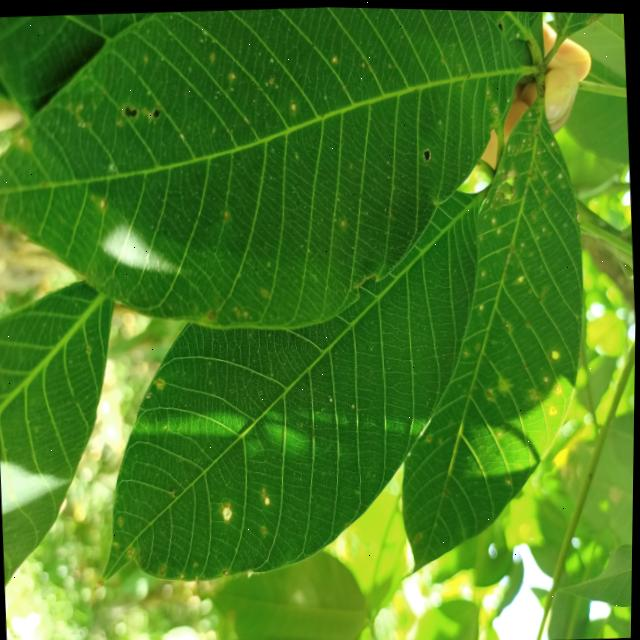Colletotrichum: (223, 500, 234, 520), (266, 493, 273, 503), (556, 383, 561, 388), (226, 568, 230, 574), (264, 485, 267, 491)
